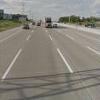Car: (19, 19, 34, 33)
